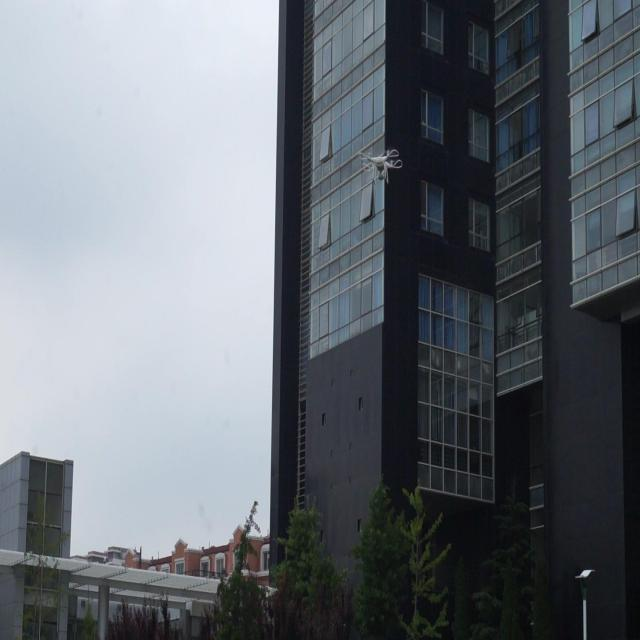UAV: (358, 148, 403, 186)
